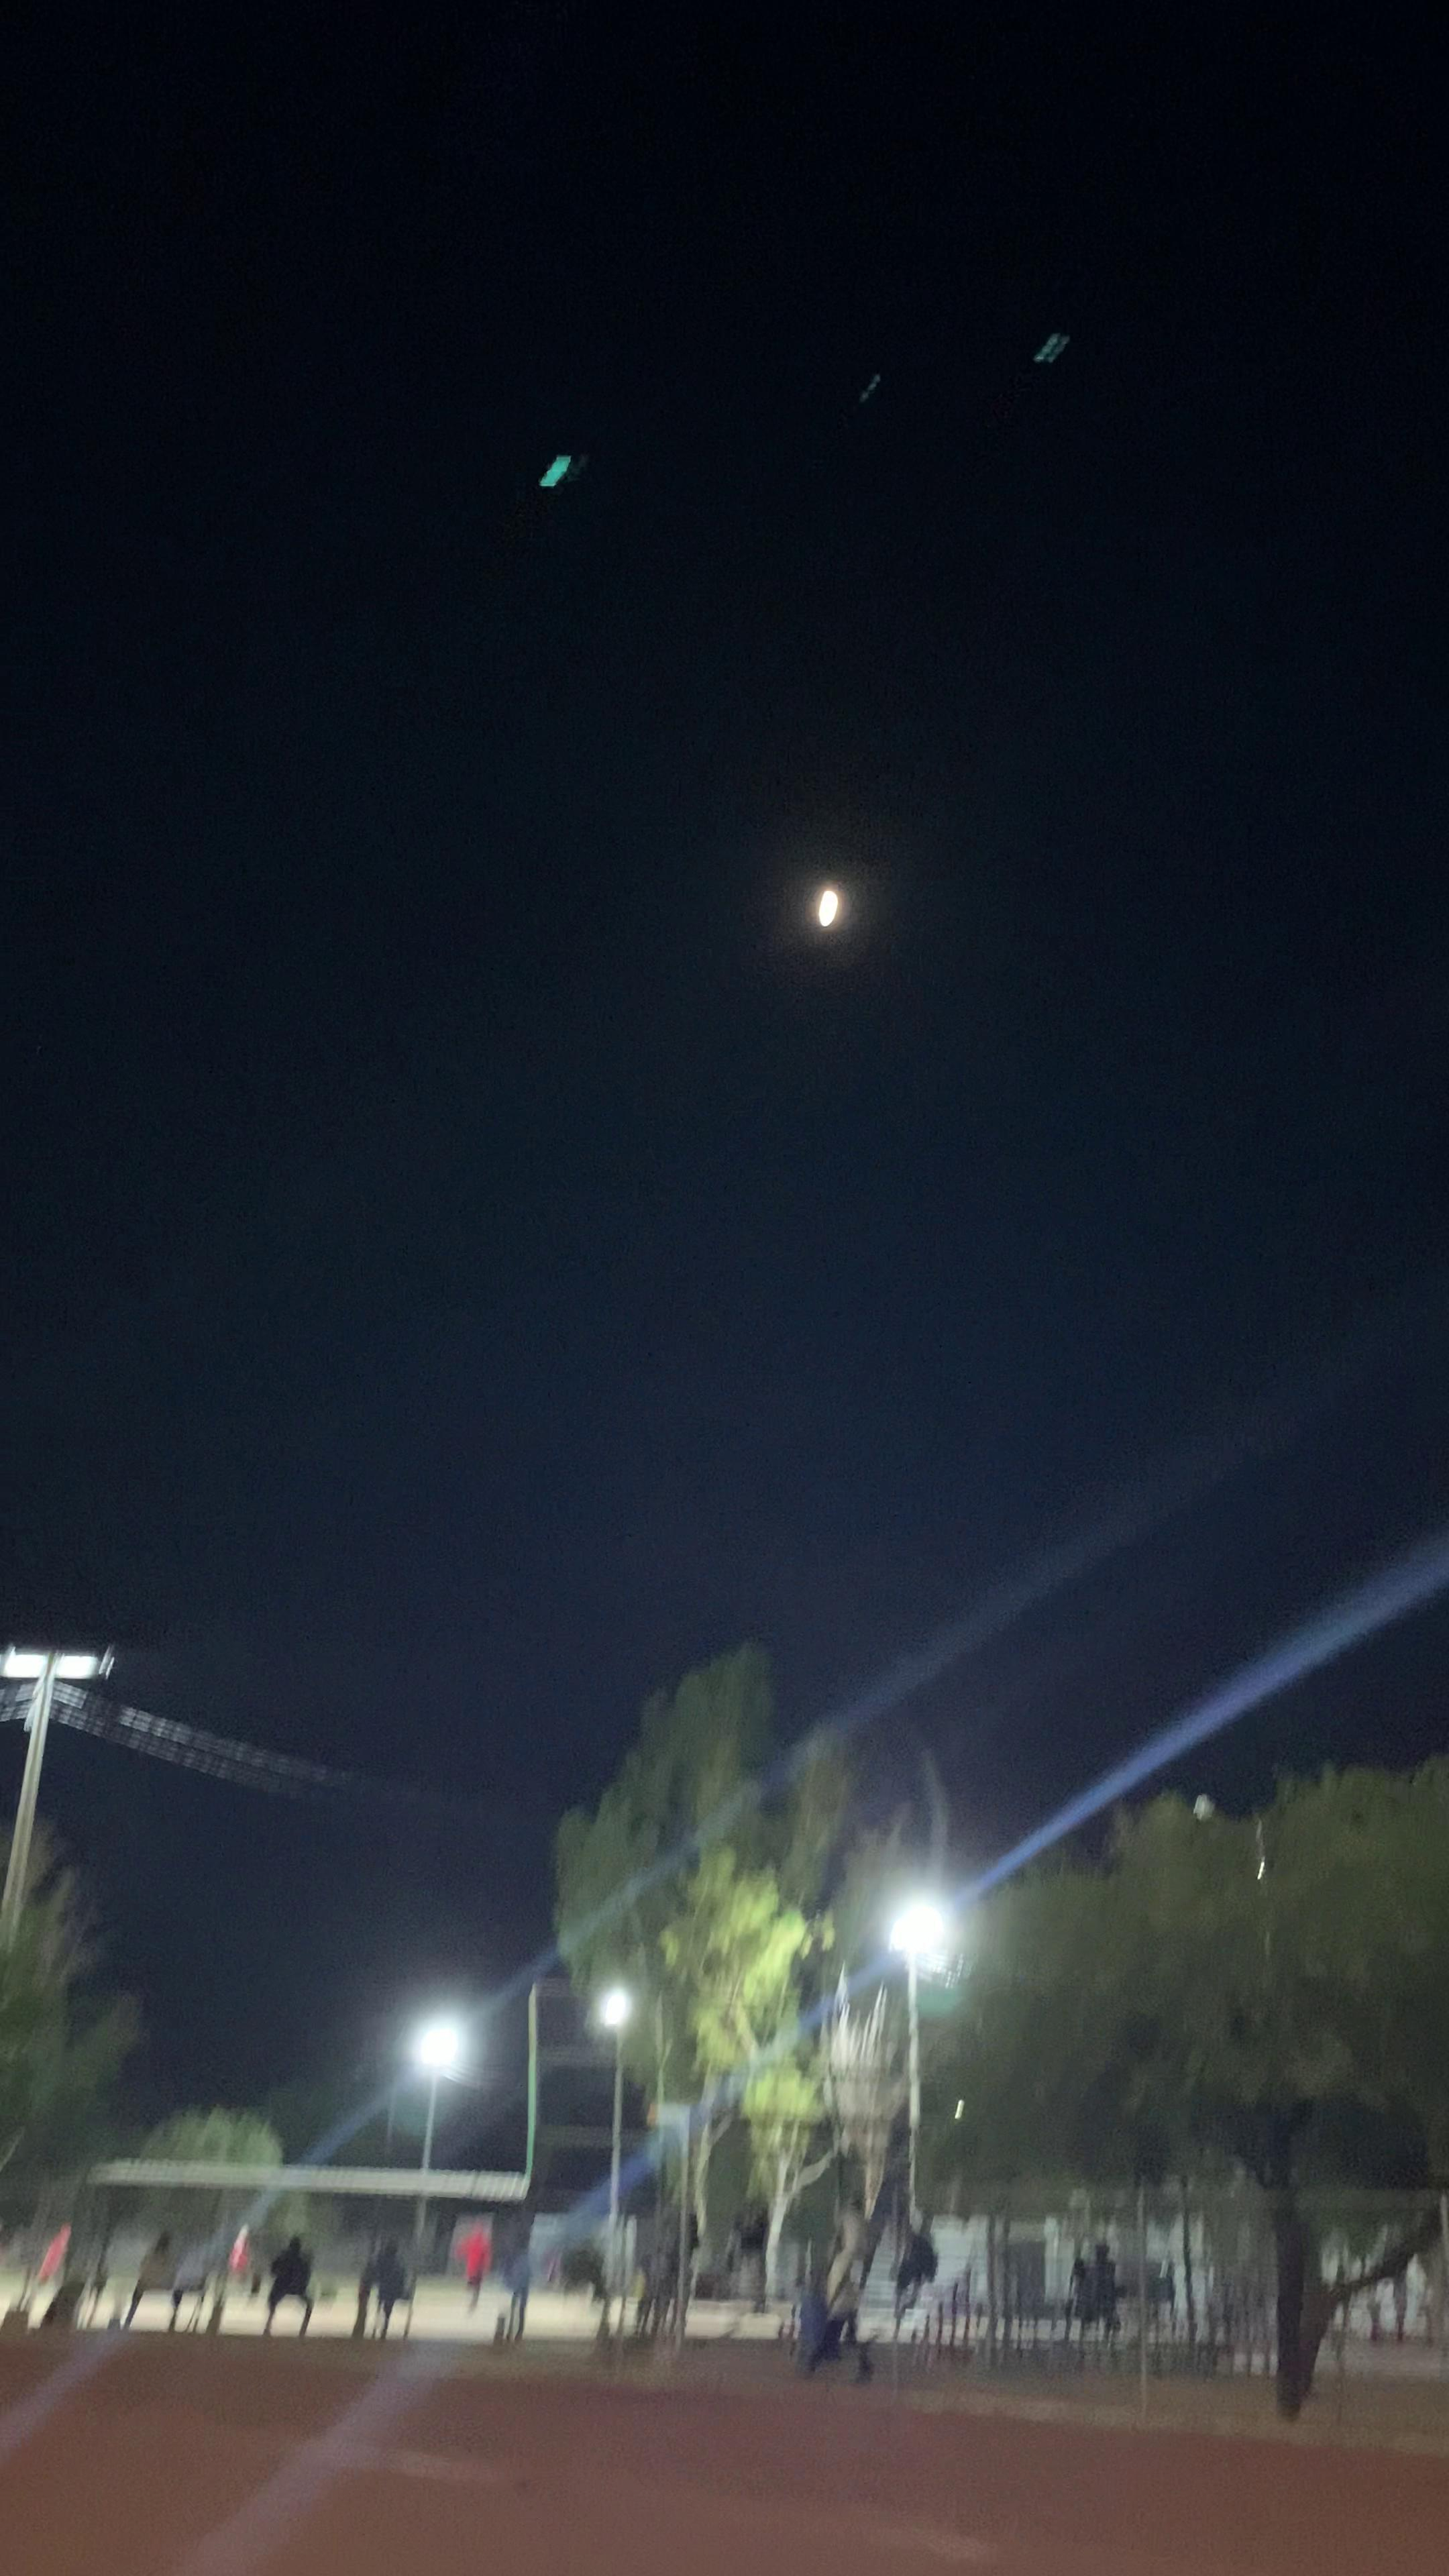moon: (780, 870, 881, 987)
